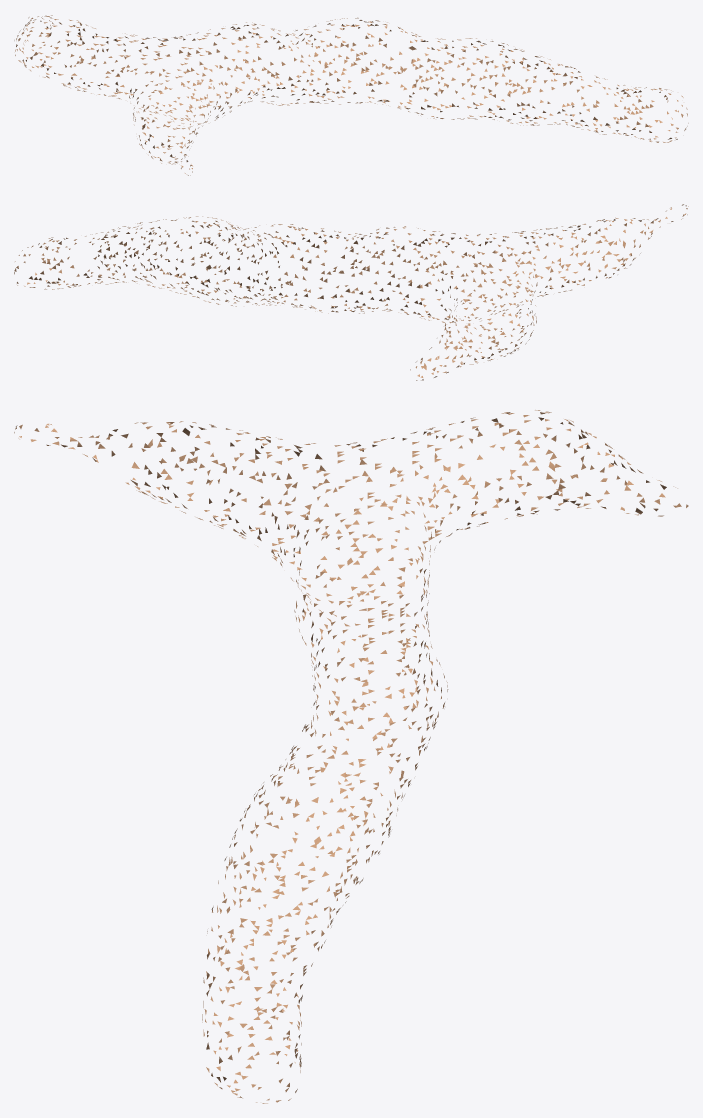
File: morph_005.glb
3 views of the same model, one above another, from view 1: azimuth 30°, elevation 25°; view 2: azimuth 150°, elevation 25°; view 3: azimuth 270°, elevation 25° (orthographic). The views are drawn at different scales.
Size of the model in its own units: 105 by 30.36 by 67.65.
